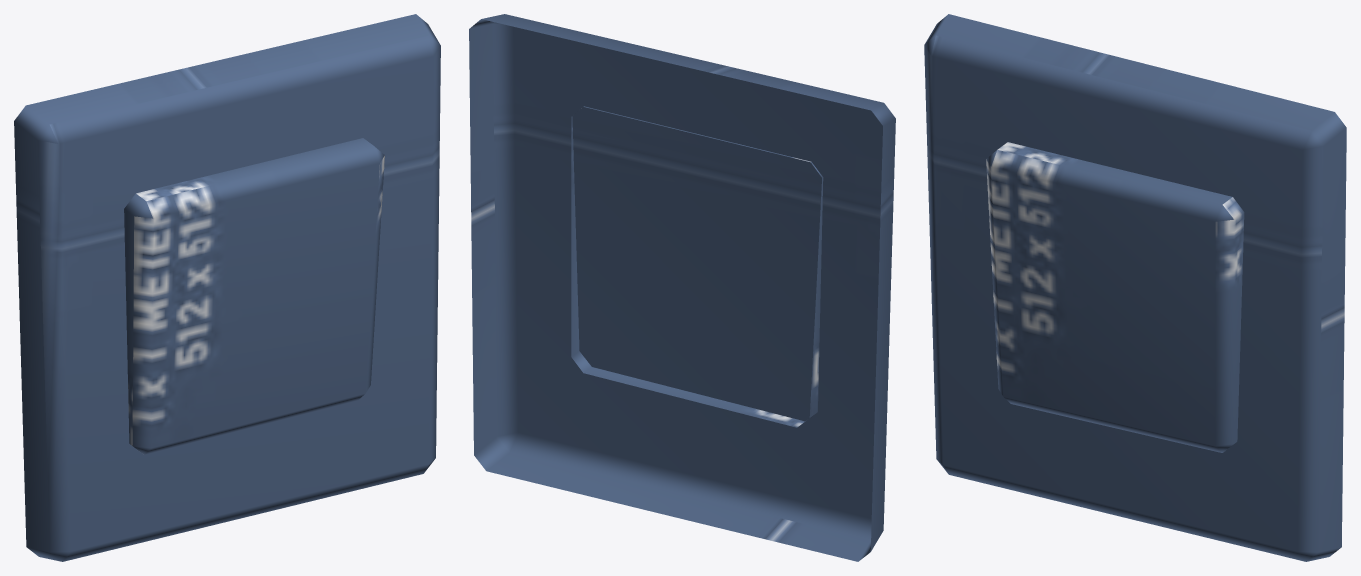
The model's file is SM_LightSwitch.glb.
3 renders of one model, left to right at view 1: azimuth 30°, elevation 25°; view 2: azimuth 150°, elevation 25°; view 3: azimuth 330°, elevation 25°, orthographic.
Visible parts, largest first — view 1: LightSwitch, LightSwitch.001; view 2: LightSwitch, LightSwitch.001; view 3: LightSwitch, LightSwitch.001.
Boxes of the visible parts, left/top/right/bottom form: LightSwitch: left=14, top=14, right=440, bottom=561; LightSwitch.001: left=124, top=138, right=384, bottom=454; LightSwitch: left=469, top=14, right=895, bottom=561; LightSwitch.001: left=571, top=106, right=823, bottom=427; LightSwitch: left=924, top=14, right=1346, bottom=561; LightSwitch.001: left=986, top=142, right=1244, bottom=452.
Size of the model in its own units: 0.1705 by 0.1788 by 0.0301.
1 material, 1 textured.
